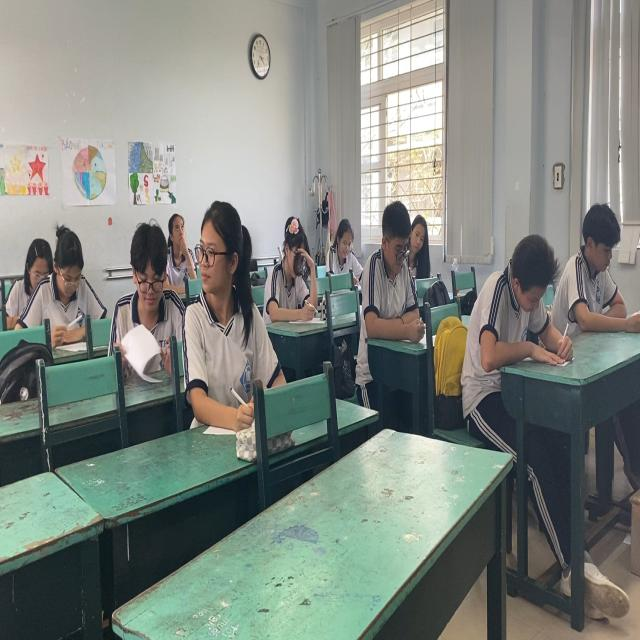cheating: (184, 198, 264, 409)
not_cheating: (472, 240, 562, 378), (564, 195, 636, 336), (112, 216, 178, 356), (19, 225, 100, 329), (371, 201, 435, 330), (264, 208, 324, 319), (328, 216, 364, 292)
